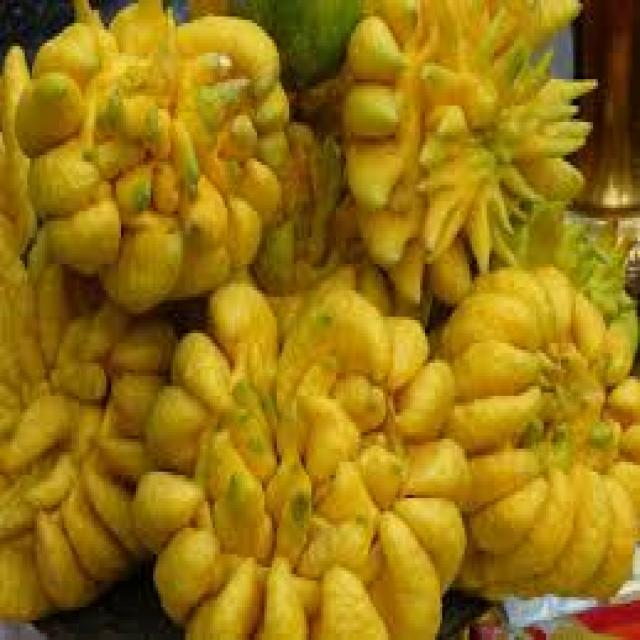PhatThu: (127, 271, 477, 637), (12, 0, 300, 318), (341, 3, 605, 310)
